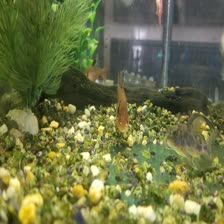Kiros: (159, 113, 222, 168)
Transparente: (110, 76, 137, 131)
